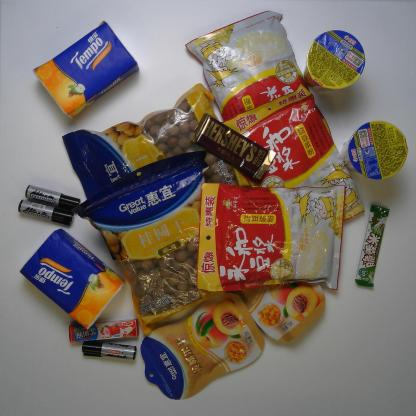Candy: (59, 318, 143, 351)
Chocolate: (185, 113, 279, 183), (351, 198, 397, 302)
Dried Food: (69, 146, 229, 334), (44, 75, 247, 219)
Dried Fruit: (138, 286, 266, 408), (235, 252, 338, 346)
Instant Drink: (184, 160, 352, 297), (221, 91, 370, 241), (178, 7, 316, 131)
Instant Noodles: (340, 106, 416, 186), (298, 25, 376, 99)
Stationery: (17, 168, 88, 223), (6, 199, 80, 230), (77, 340, 135, 367)
Tissue: (13, 218, 134, 336), (22, 13, 146, 120)
